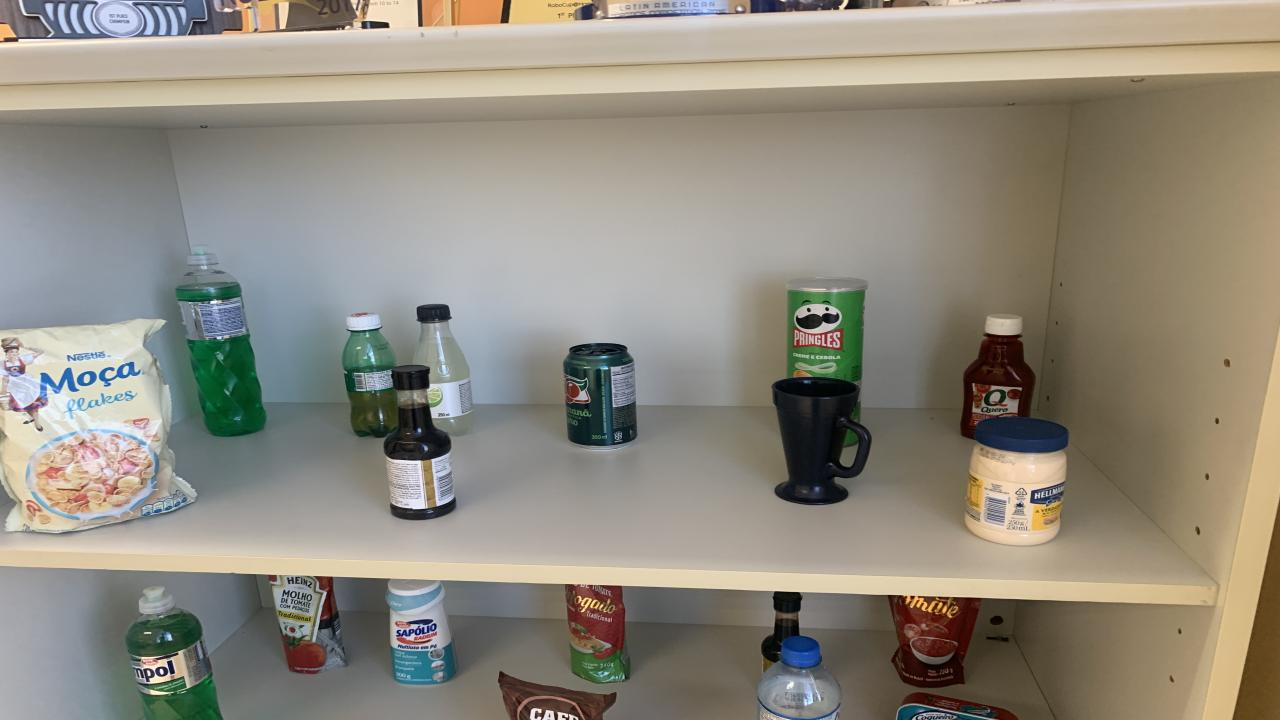Cleaner-Cleanup_Items: (385, 579, 455, 684)
Coffee-Pantry_Items: (498, 671, 618, 720)
Detergent-Cleanup_Items: (175, 248, 265, 435), (125, 587, 222, 720)
English_Sauce-Pantry_Items: (385, 364, 455, 519), (760, 591, 802, 669)
Flakes-Snacks: (0, 319, 198, 532)
Guarana-Drinks: (342, 313, 398, 437)
Guarana_Can-Drinks: (562, 343, 638, 448)
Ketchup-Pantry_Items: (960, 315, 1035, 437)
Mayonnaise-Pantry_Items: (965, 416, 1070, 546)
Pringles-Snacks: (782, 278, 868, 382)
Soda-Drinks: (412, 304, 475, 435)
Tomato_Sauce-Pantry_Items: (890, 594, 980, 688), (270, 576, 348, 673), (565, 585, 630, 682)
Tuna_Can-Pantry_Items: (895, 692, 1018, 720)
Water_Bottle-Drinks: (758, 636, 842, 720)
